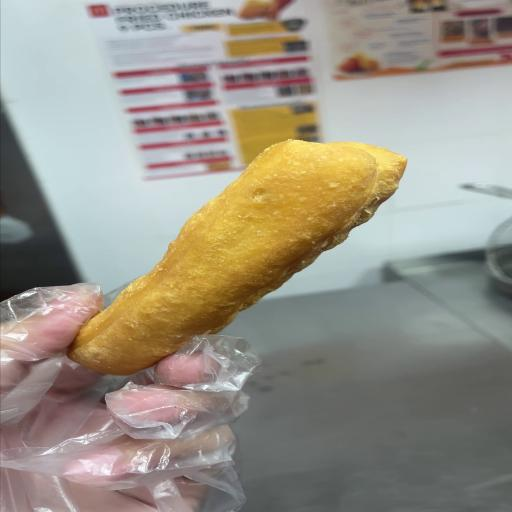brand_golden_good: (68, 140, 406, 375)
